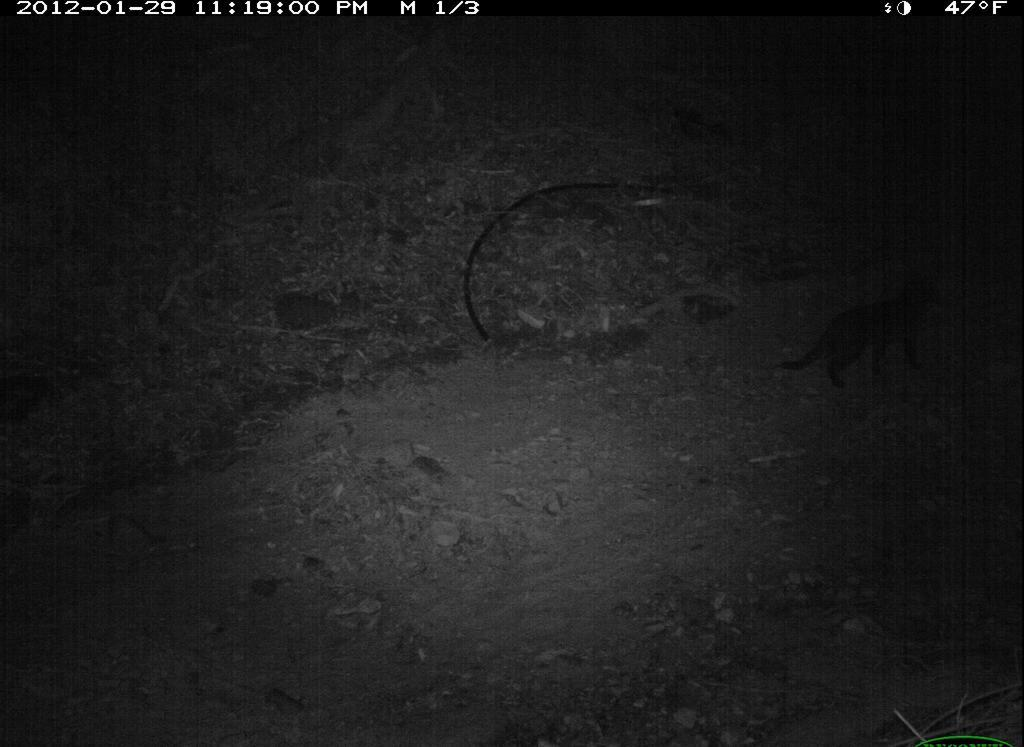cat: (775, 276, 950, 401)
